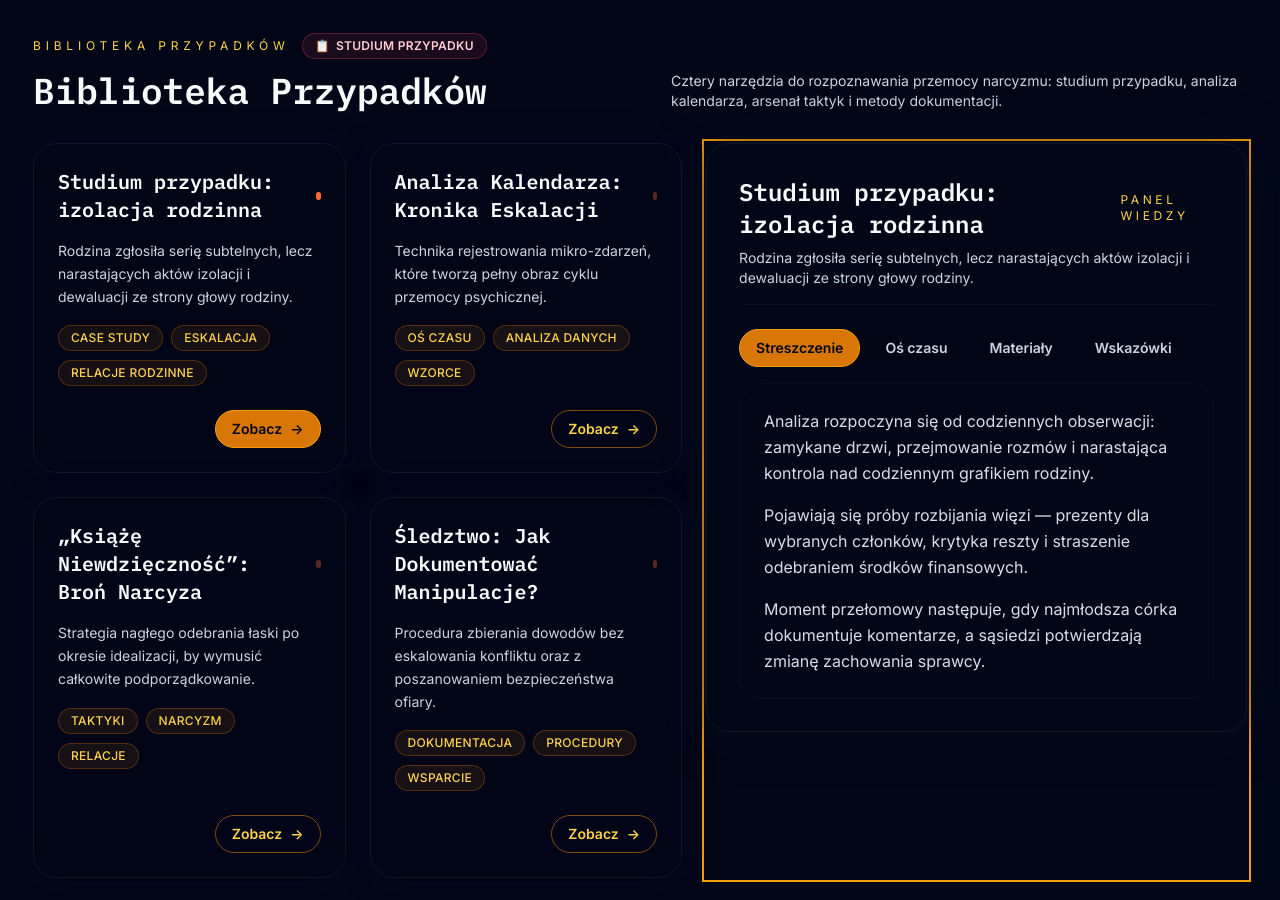
LibrarySection › allows switching entries and tabs while keeping focus on the detail panel
Click the button with aria-label "Zobacz — Analiza Kalendarza: Kronika Eskalacji" at {"x": 604, "y": 429}, box [551, 410, 657, 448]
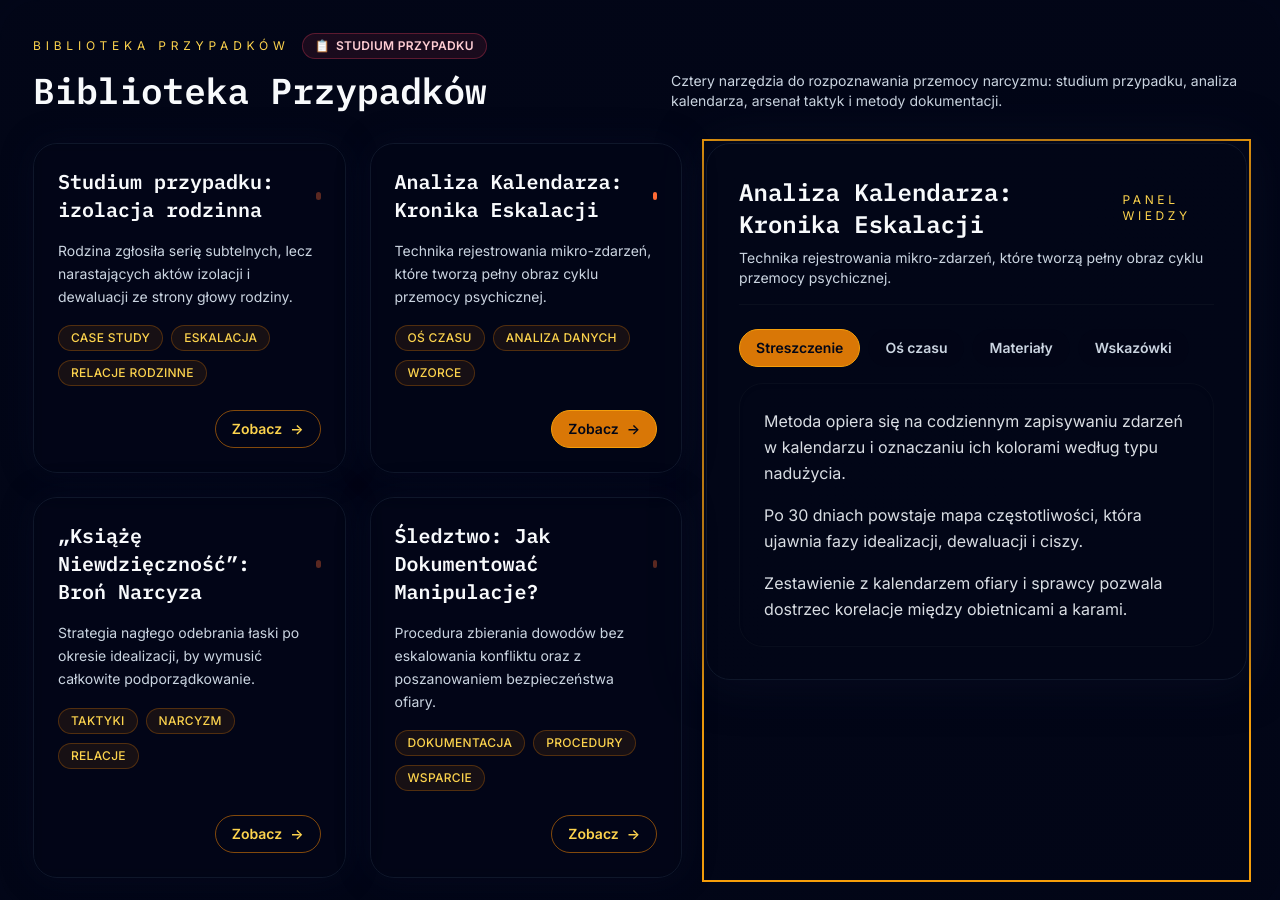
Check: the element that starts with "Analiza Kalendarza: Kronika Eskalacji" is shown, box [706, 143, 1247, 878]
Check: the heading "Analiza Kalendarza: Kronika Eskalacji" next to "Panel wiedzy" is shown, box [739, 176, 1013, 240]
Click the tab "Oś czasu" at {"x": 916, "y": 348}, box [868, 329, 964, 367]
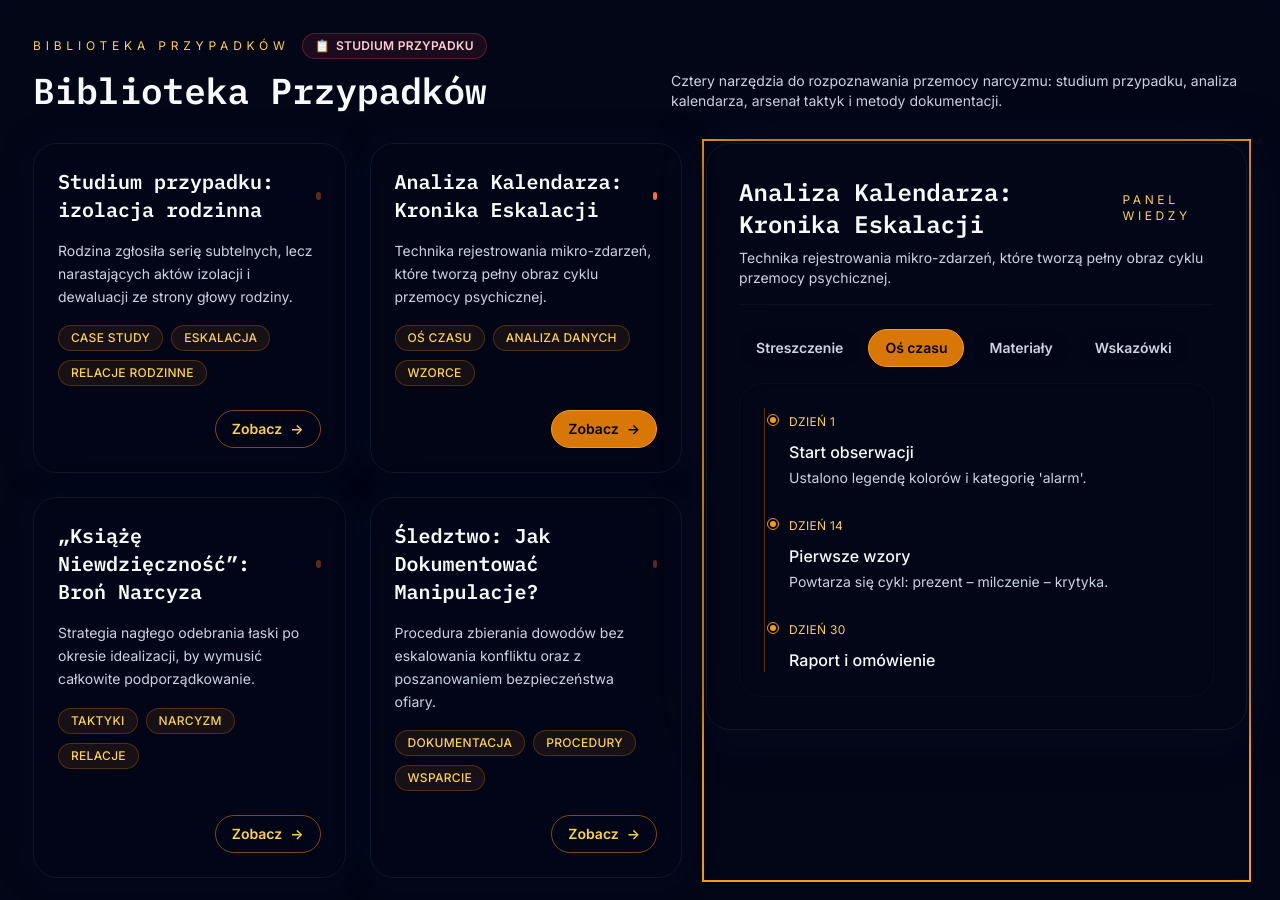
Check: the text "Dzień 14" is shown, box [789, 518, 843, 533]
Check: the text "Powtarza się cykl: prezent – milczenie – krytyka." is shown, box [789, 573, 1108, 590]
Press ArrowRight in the element named "Zakładki treści biblioteki", box [739, 329, 1214, 697]
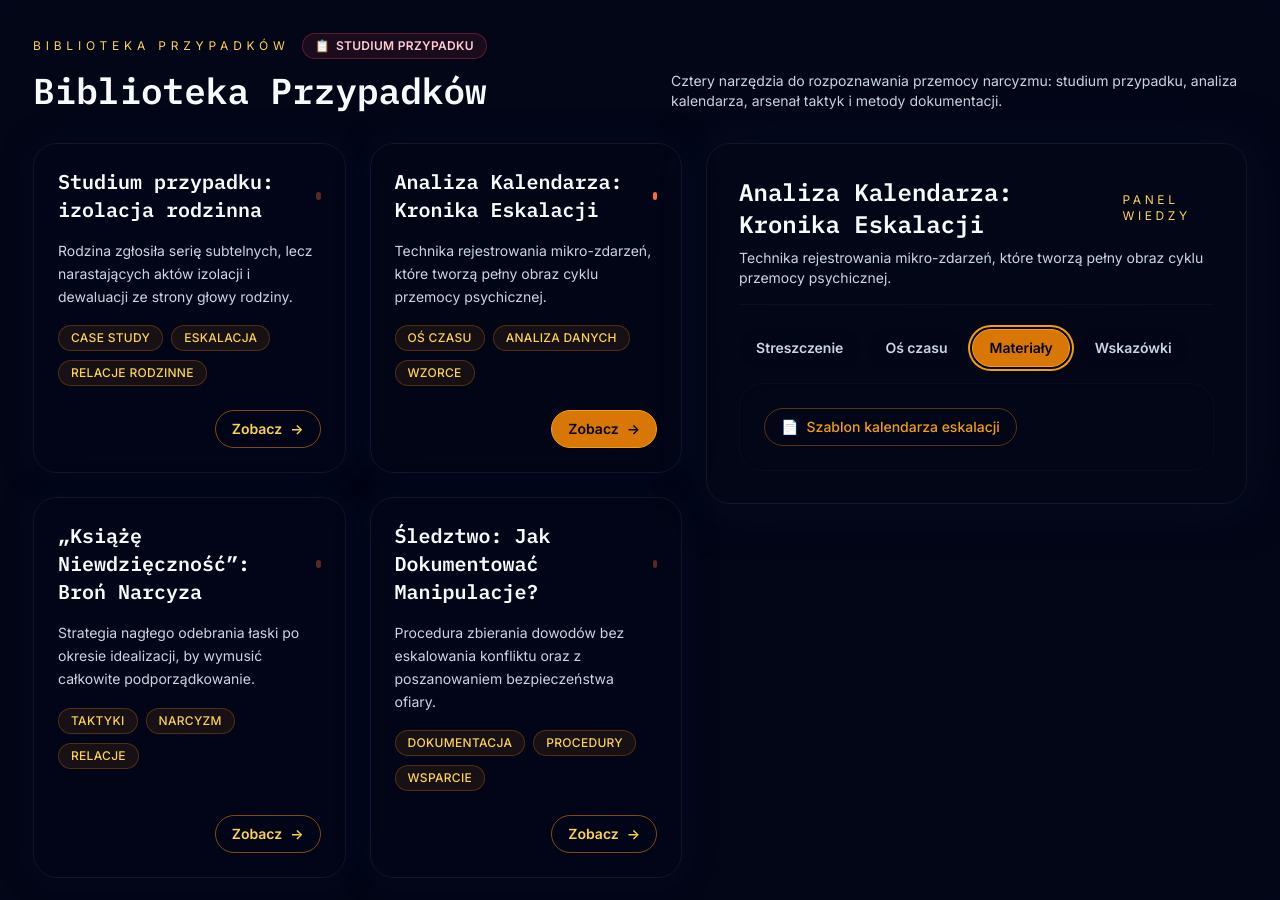
Check: the link "📄 Szablon kalendarza eskalacji" is shown, box [764, 408, 1017, 446]
